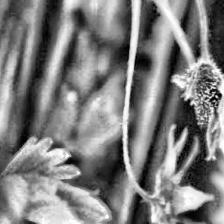Gray Mold: (144, 124, 216, 224), (172, 53, 224, 161)
